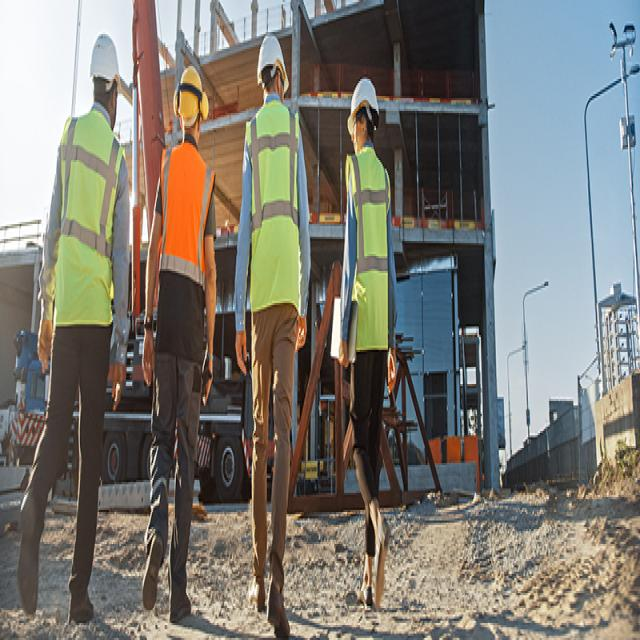helmet: (164, 50, 210, 137), (87, 2, 123, 95), (246, 22, 290, 94), (343, 59, 383, 132)
vest: (341, 146, 399, 387), (56, 116, 116, 341), (244, 103, 304, 318), (157, 146, 216, 327)
